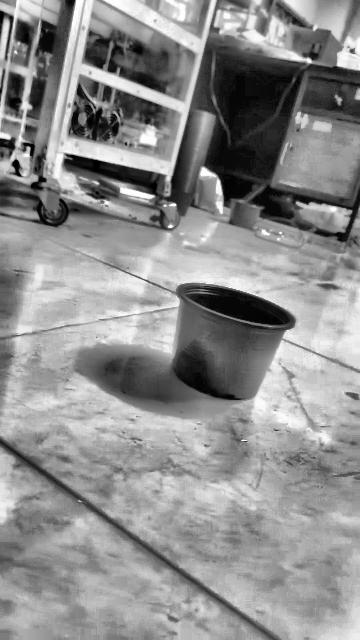pot: (172, 283, 295, 399)
